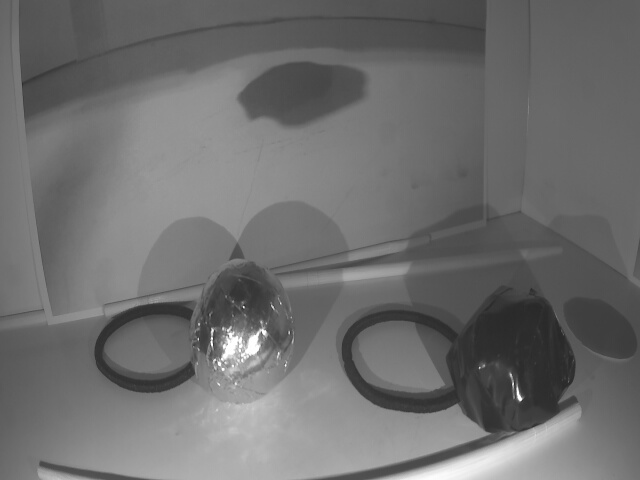Dead: (452, 281, 569, 427)
Live: (189, 261, 298, 404)
